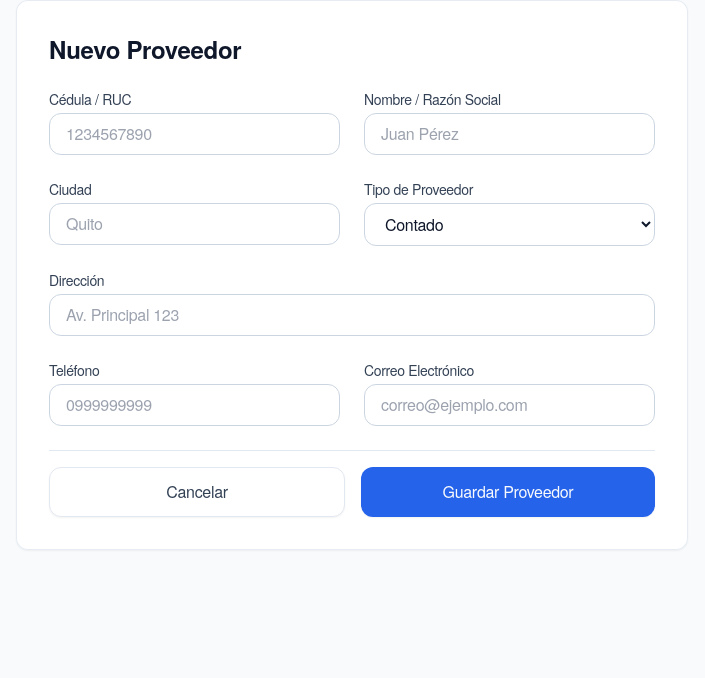
Test: ProveedorForm (Frontend Visual Validations - CA1) › Muestra errores si se envía el formulario vacío
What coordinates should you click on to do the following:
click the button "Guardar Proveedor"
I would click on:
 (508, 492)
Its box is left=361, top=467, right=655, bottom=517.
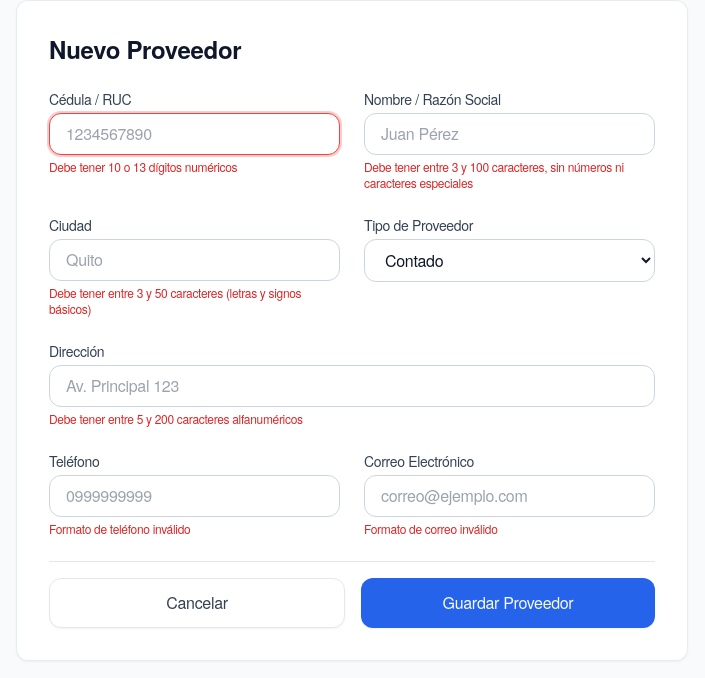
Expected: the text "Debe tener 10 o 13 dígitos numéricos" is shown, left=49, top=158, right=237, bottom=175
Expected: the text "Debe tener entre 3 y 100 caracteres, sin números ni caracteres especiales" is shown, left=364, top=159, right=655, bottom=191
Expected: the text "Debe tener entre 3 y 50 caracteres (letras y signos básicos)" is shown, left=49, top=285, right=340, bottom=317
